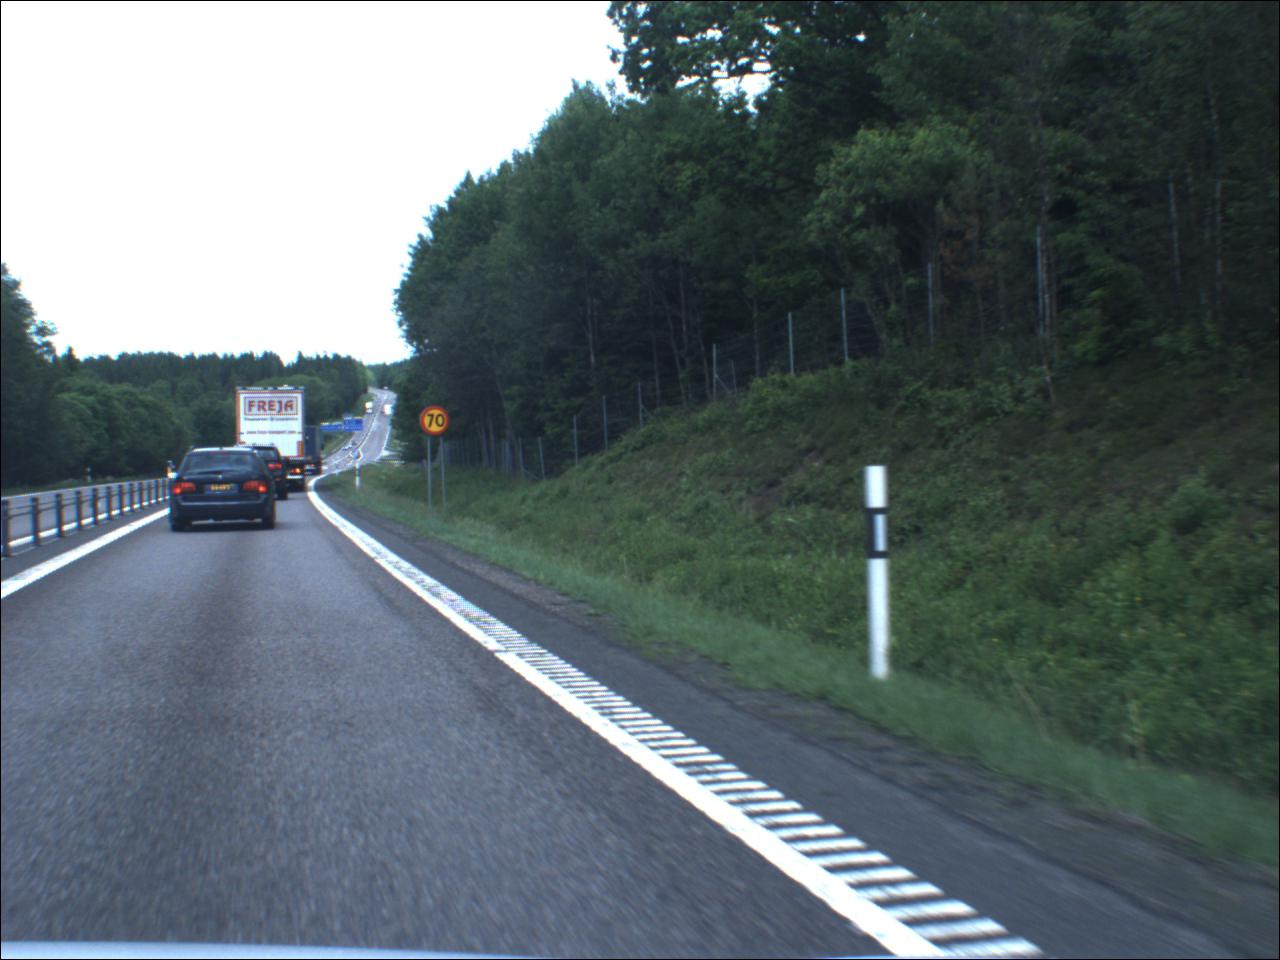70_SIGN: (422, 406, 452, 436)
